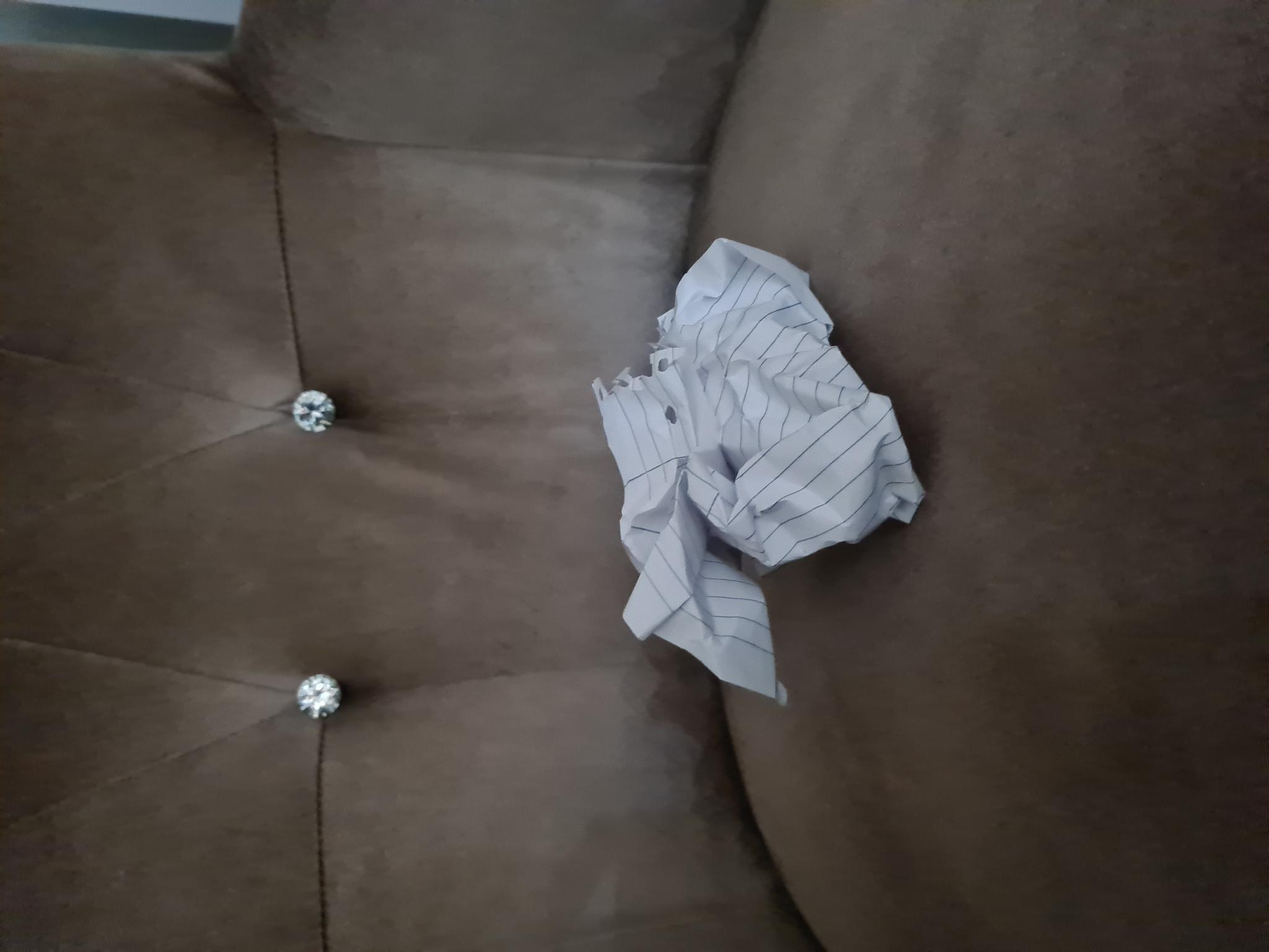Kertas: (239, 593, 725, 945)
